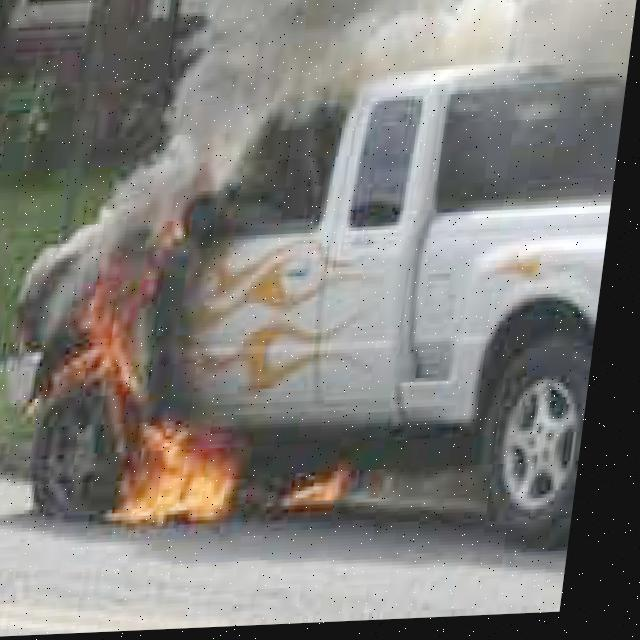Fire: (28, 215, 196, 408), (115, 417, 265, 566), (284, 442, 382, 542)
